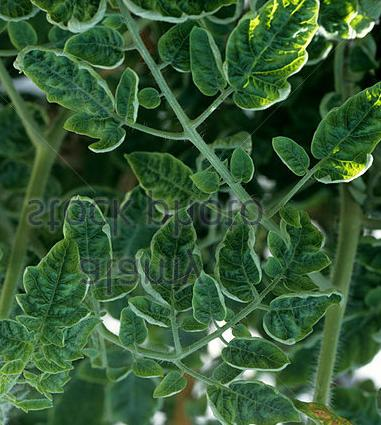Tomato leaf yellow virus: (16, 39, 153, 154), (221, 0, 351, 115), (18, 223, 98, 363), (307, 62, 381, 201), (133, 195, 206, 317), (61, 183, 119, 290), (258, 286, 364, 344), (210, 205, 270, 304), (121, 151, 206, 217), (174, 21, 243, 98), (0, 0, 126, 34), (185, 270, 243, 330), (228, 336, 302, 376), (0, 307, 41, 363)
